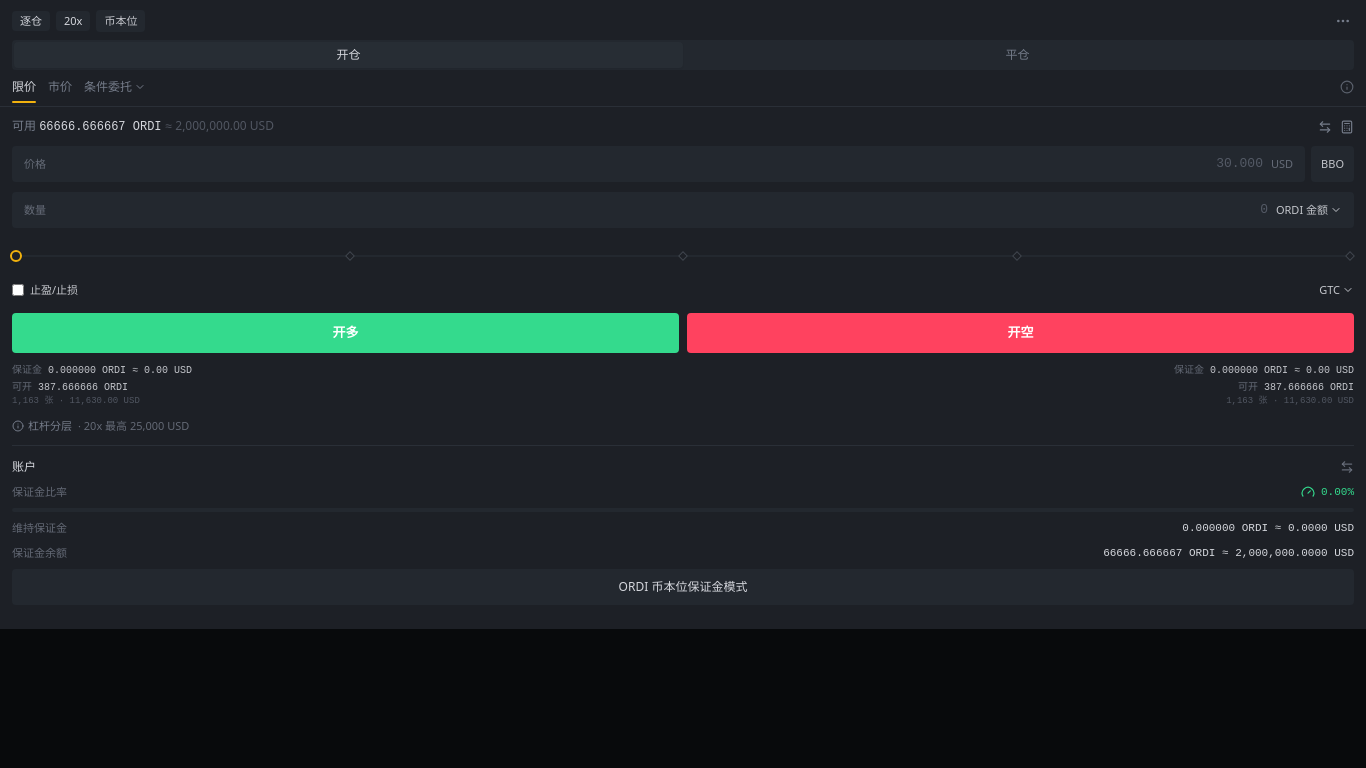
Scenario: 下单面板：ORDI 20x、已挂 13,370 USD 条件单、再下 13,990 USD › 币安标准：13,370 + 13,990 超过 20x 最高 25,000 USD——红框、按钮置灰、底部是杠杆分层
Later steps or results of the test are not shown.
Click the button "市价" at (60, 90), box [48,78,72,102]
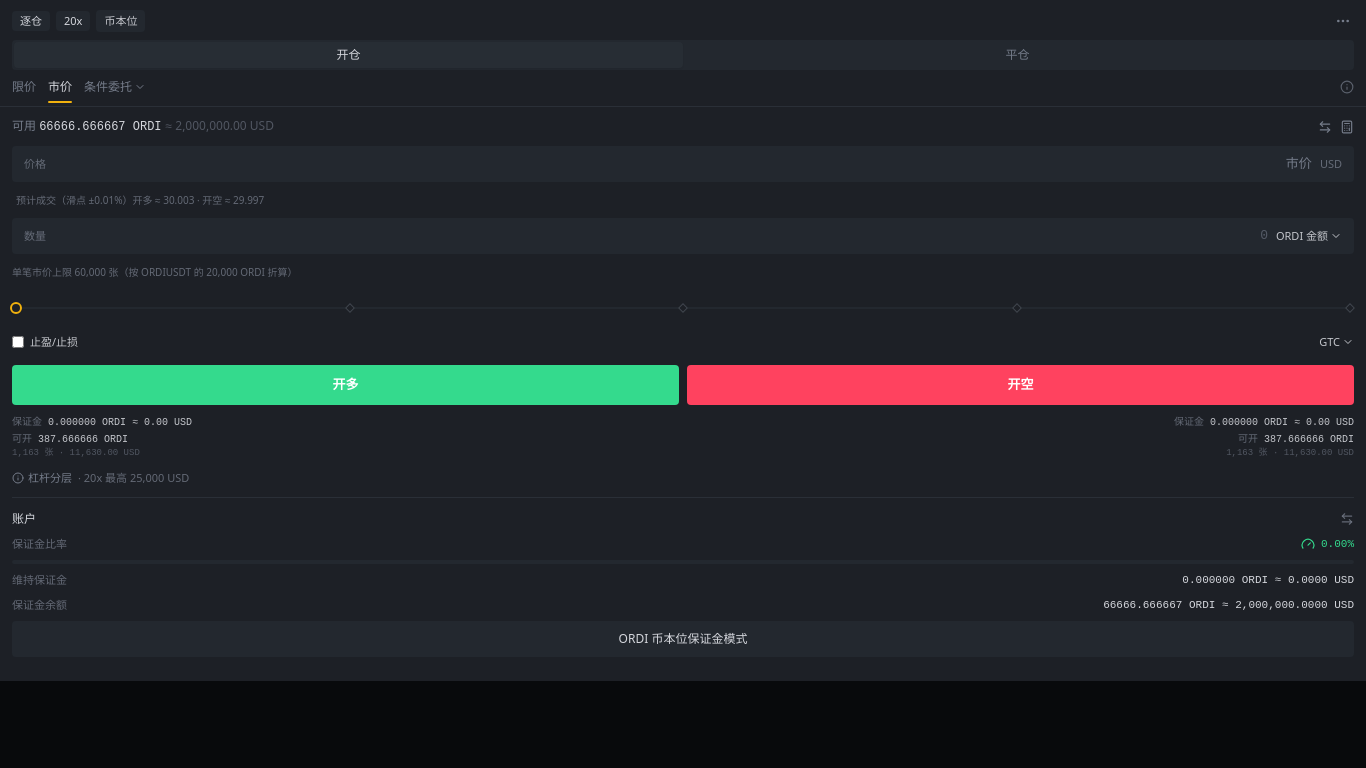
Click the button with test id "unit-preference-trigger" at (1309, 236), box [1276,228,1342,244]
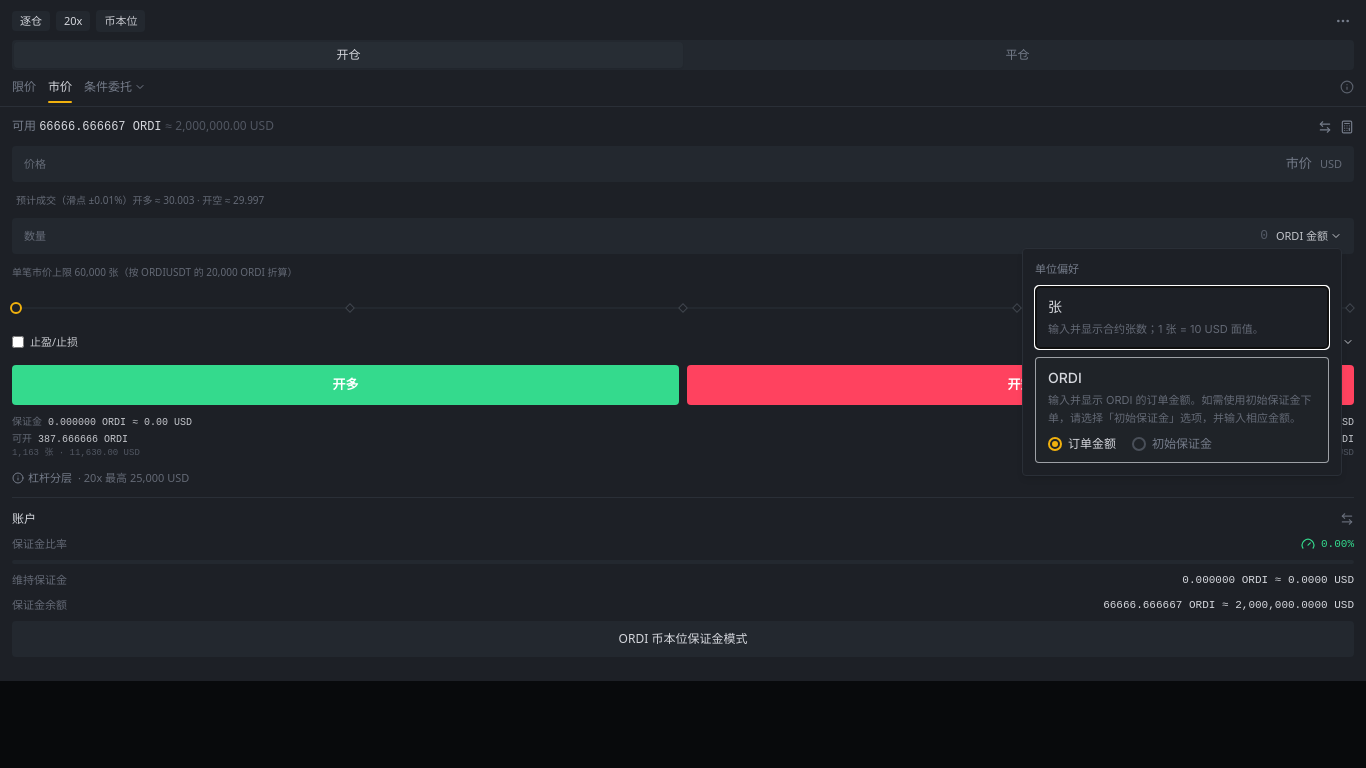
Click the button with test id "unit-card-CONTRACTS" at (1156, 328), box [1035,286,1329,349]
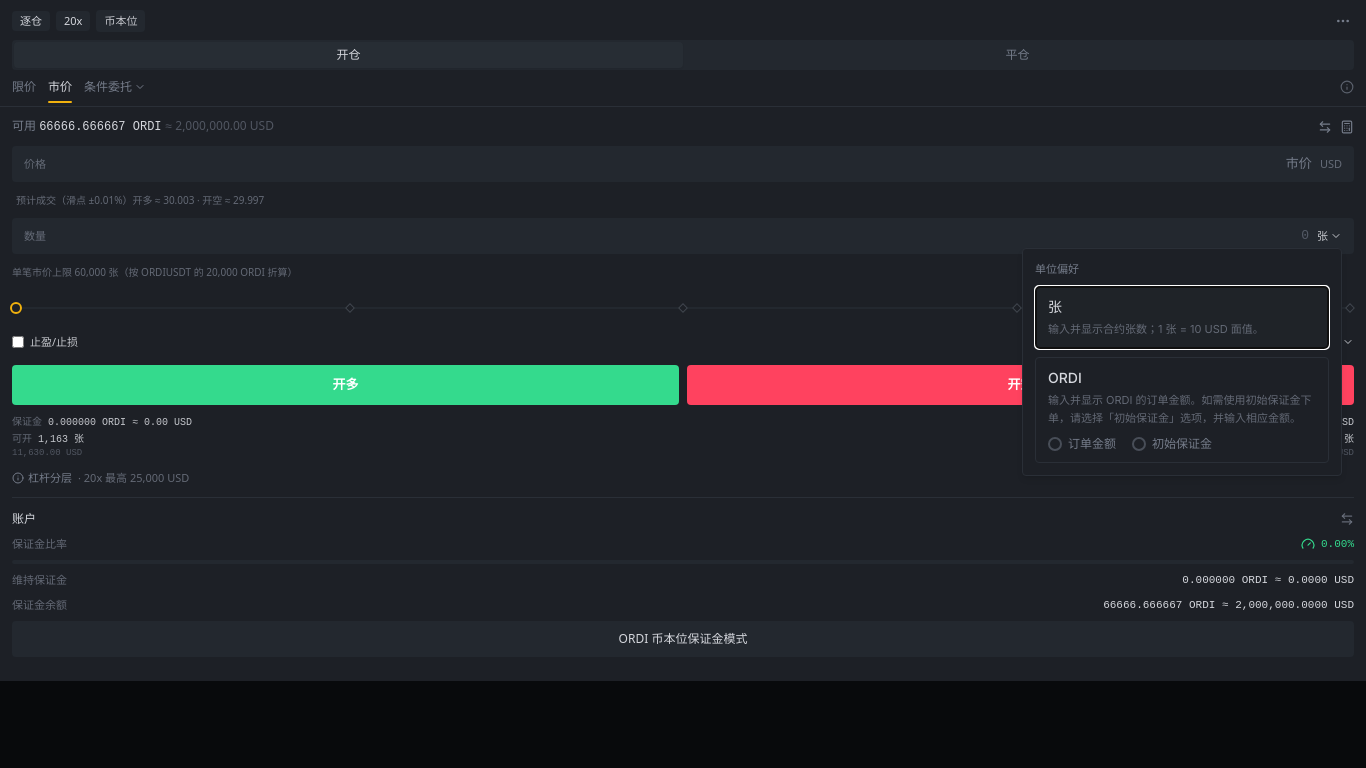
Type "1399" into the field with test id "order-qty-input" at (682, 236), box [54,226,1309,246]
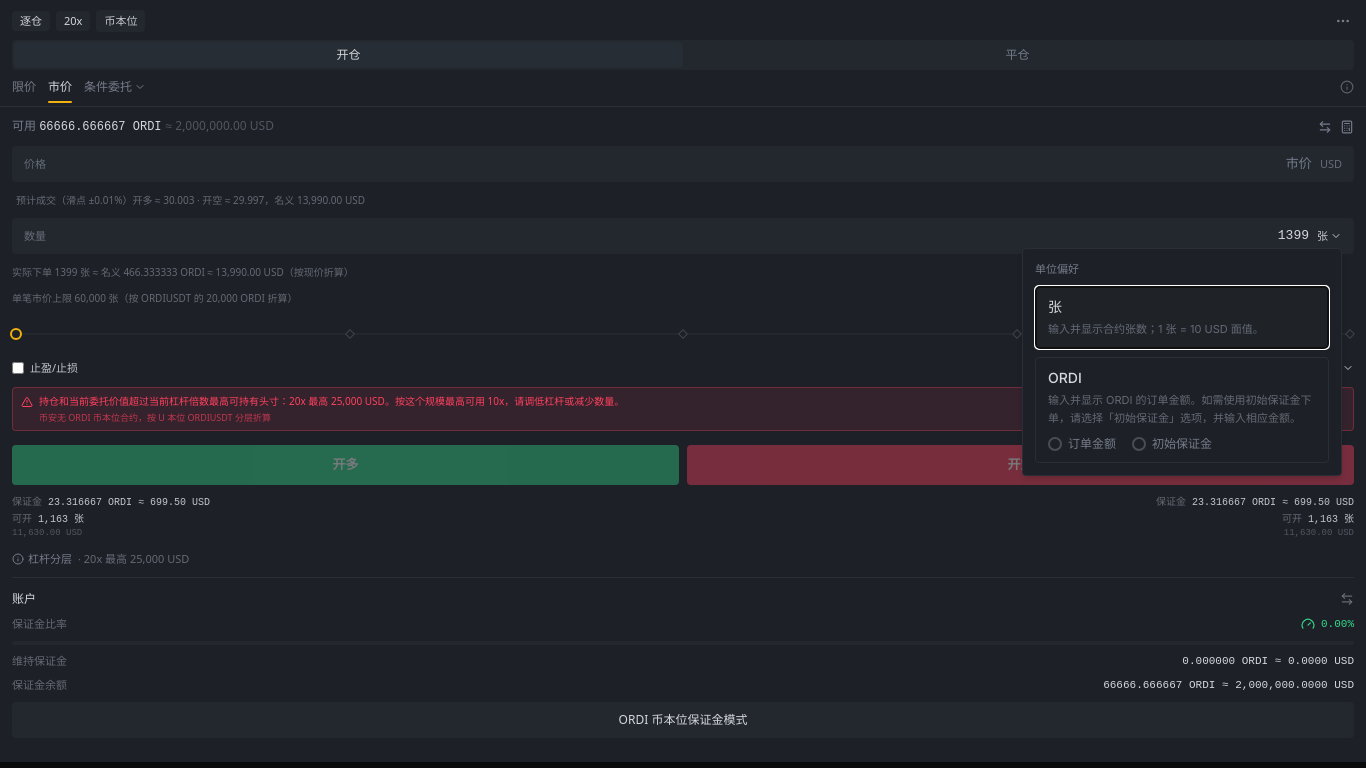
Expected: the element with test id "position-limit-warning" shows "持仓和当前委托价值超过当前杠杆倍数最高可持有头寸：20x 最高 25,000 USD", [39,394,624,408]
Expected: the text with test id "position-limit-note" reads "币安无 ORDI 币本位合约，按 U 本位 ORDIUSDT 分层折算", [39,410,271,424]
Expected: the button "开多" is disabled, [12,445,679,485]
